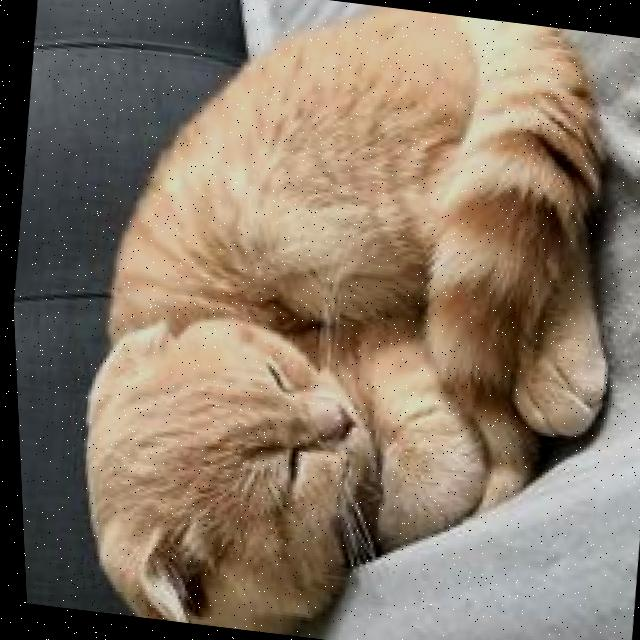Scottish Fold: (29, 0, 640, 640)
